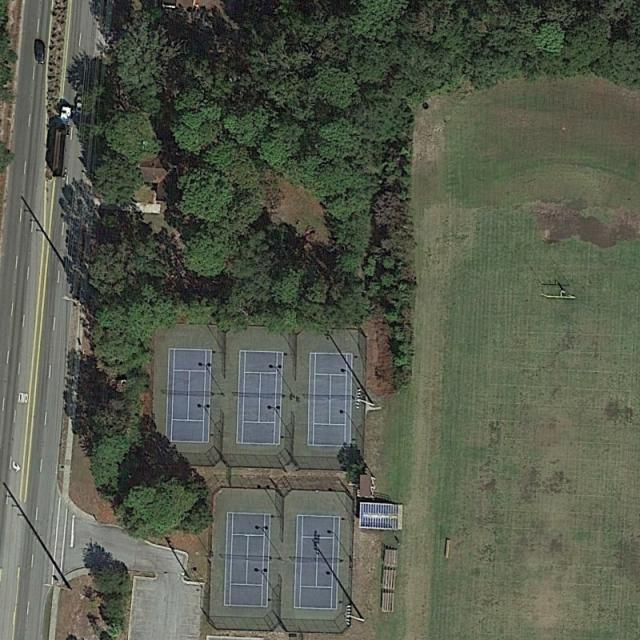vehicle: (51, 107, 73, 178), (37, 46, 46, 64)
